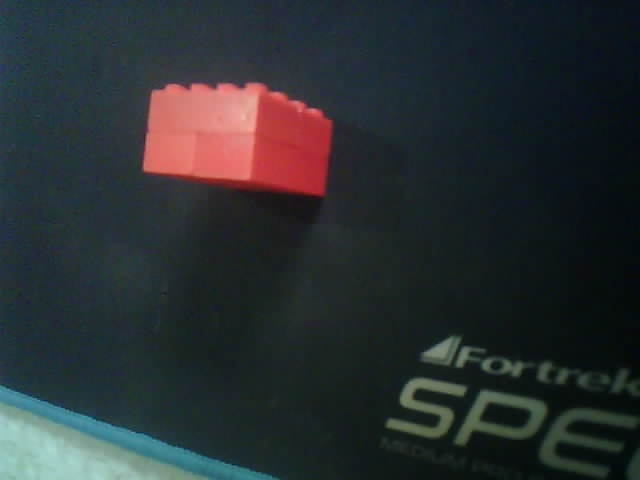lego: (141, 80, 332, 199)
